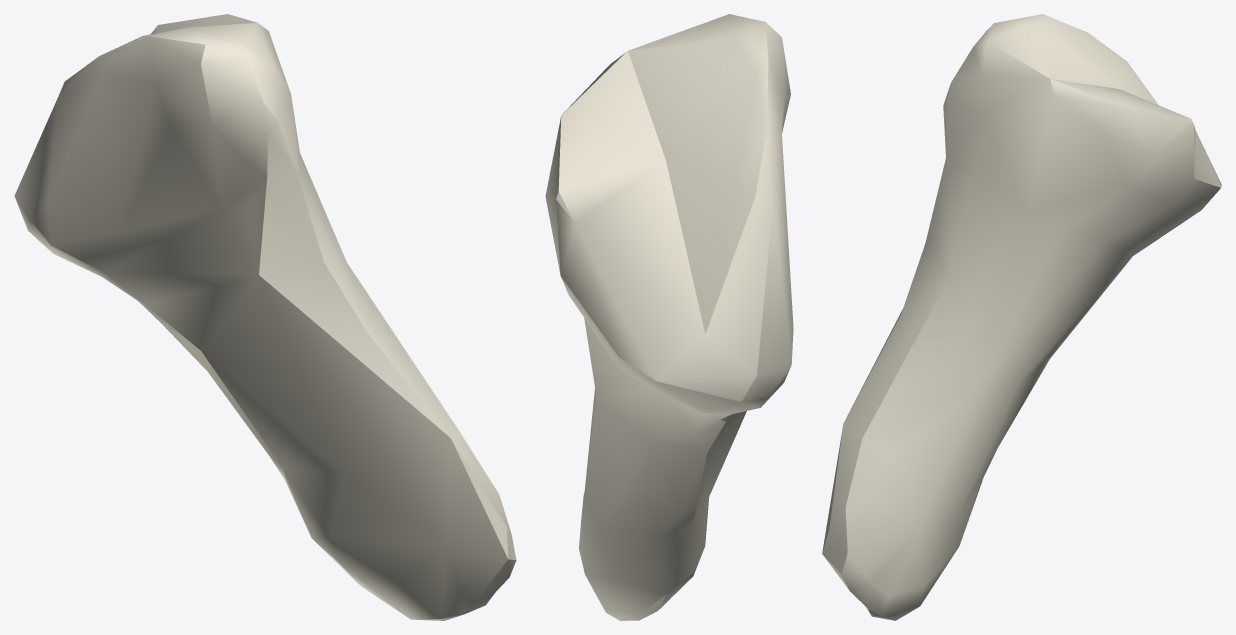
Rendered from fma23951_fj6298.glb.
The picture shows the model from 3 angles, left to right: view 1: azimuth 30°, elevation 25°; view 2: azimuth 150°, elevation 25°; view 3: azimuth 270°, elevation 25°; orthographic projection. The views are drawn at different scales.
Visible parts, largest first — view 1: FMA23951_FJ6298; view 2: FMA23951_FJ6298; view 3: FMA23951_FJ6298.
Part boxes in pixels (x1,y1,x2,y2): FMA23951_FJ6298: [14, 14, 516, 620]; FMA23951_FJ6298: [545, 14, 793, 620]; FMA23951_FJ6298: [822, 14, 1221, 620].
Bounding box in the file's own units: 0.0134 × 0.023 × 0.016.
